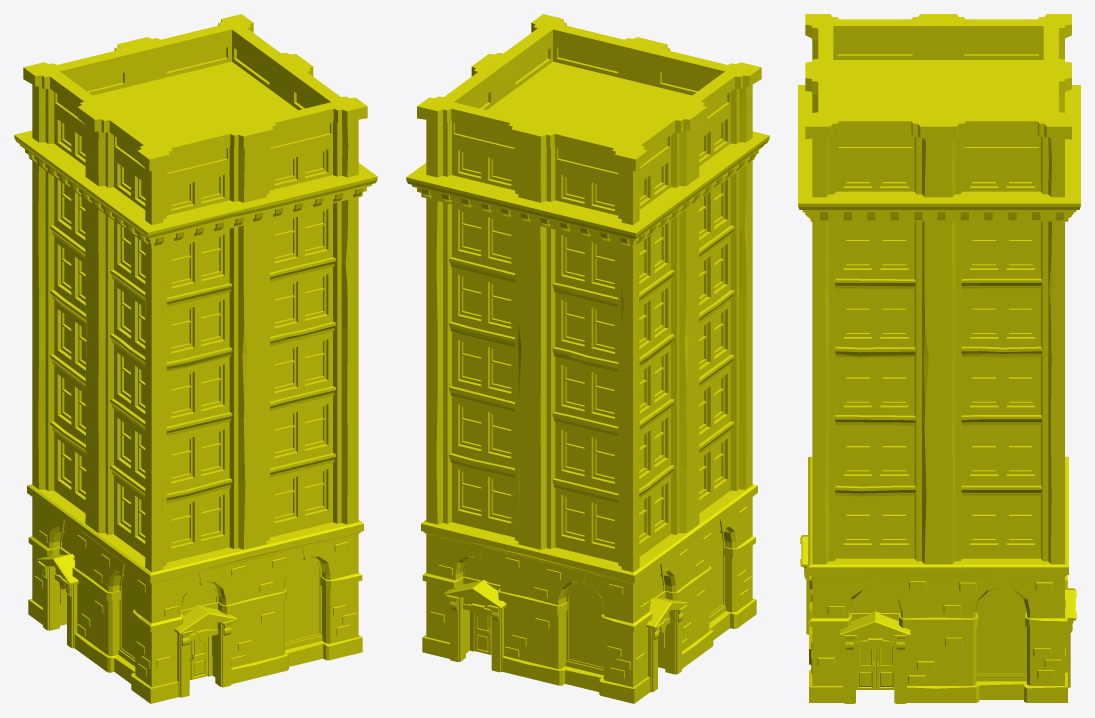
The model's file is cty_off1.glb.
The picture shows the model from 3 angles, left to right: view 1: azimuth 30°, elevation 25°; view 2: azimuth 150°, elevation 25°; view 3: azimuth 270°, elevation 25°; orthographic projection. The views are drawn at different scales.
Visible parts, largest first — view 1: SM_Bld_OfficeOld_Small_01; view 2: SM_Bld_OfficeOld_Small_01; view 3: SM_Bld_OfficeOld_Small_01.
Part boxes in pixels (left/top/right/bottom): SM_Bld_OfficeOld_Small_01: left=14, top=14, right=377, bottom=703; SM_Bld_OfficeOld_Small_01: left=406, top=14, right=769, bottom=703; SM_Bld_OfficeOld_Small_01: left=798, top=14, right=1080, bottom=703.
Size of the model in its own units: 0.1112 by 0.2524 by 0.112.
1 material, 1 textured.
